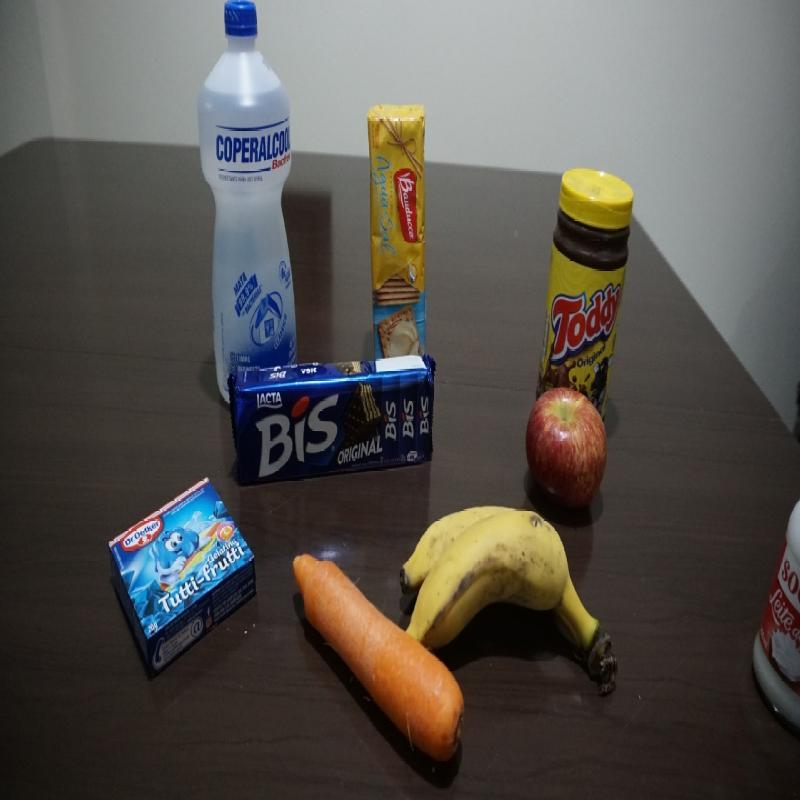Alcohol Bottle: (203, 1, 298, 359)
Apple: (528, 385, 610, 499)
Banana: (409, 498, 624, 702)
Carrot: (291, 542, 400, 743)
Chocolate Powder: (549, 174, 632, 366)
Cracker: (366, 105, 428, 356)
Gelatine: (104, 473, 255, 668)
